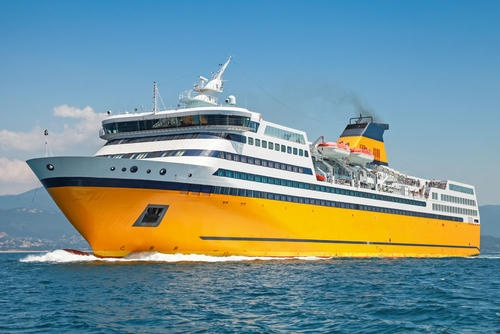youlun: (30, 71, 488, 258)
